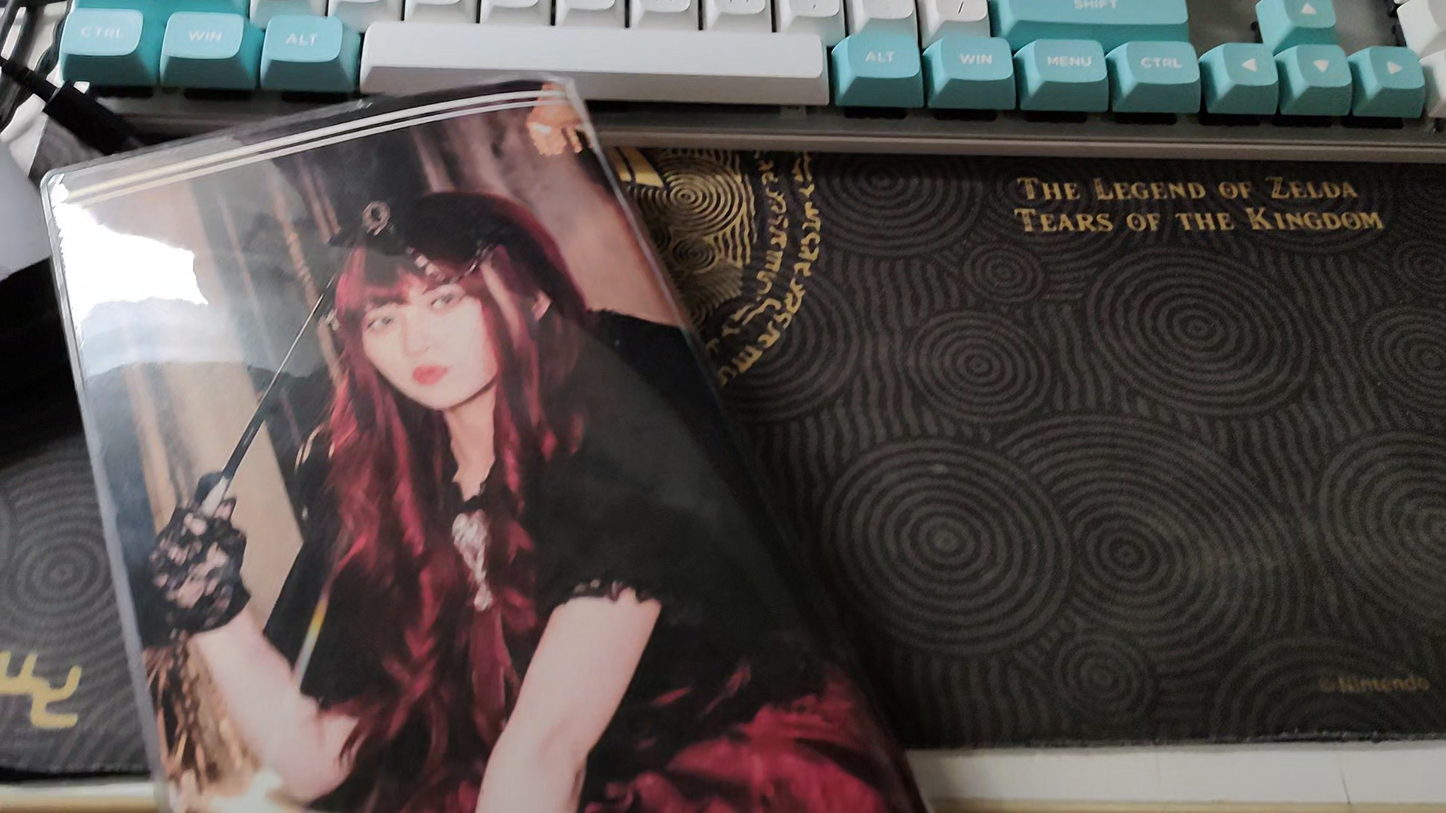Photo_book: (42, 72, 930, 813)
